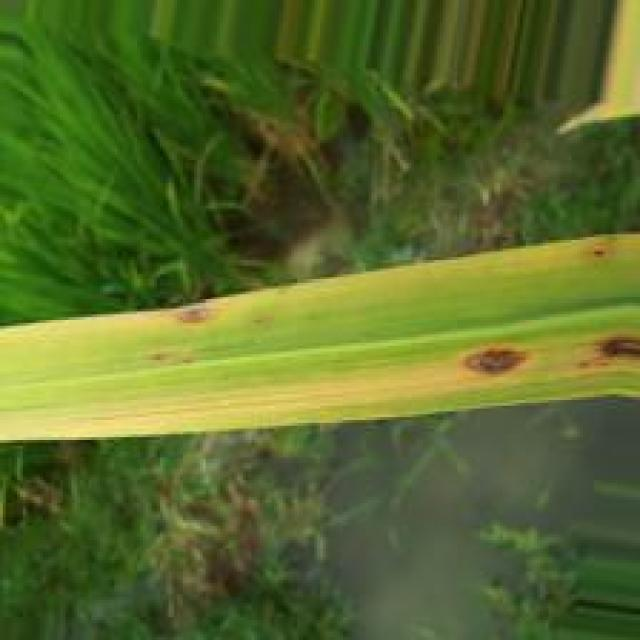Brown_Spot: (456, 343, 534, 382), (584, 332, 638, 366), (169, 305, 215, 328), (588, 245, 608, 258)
